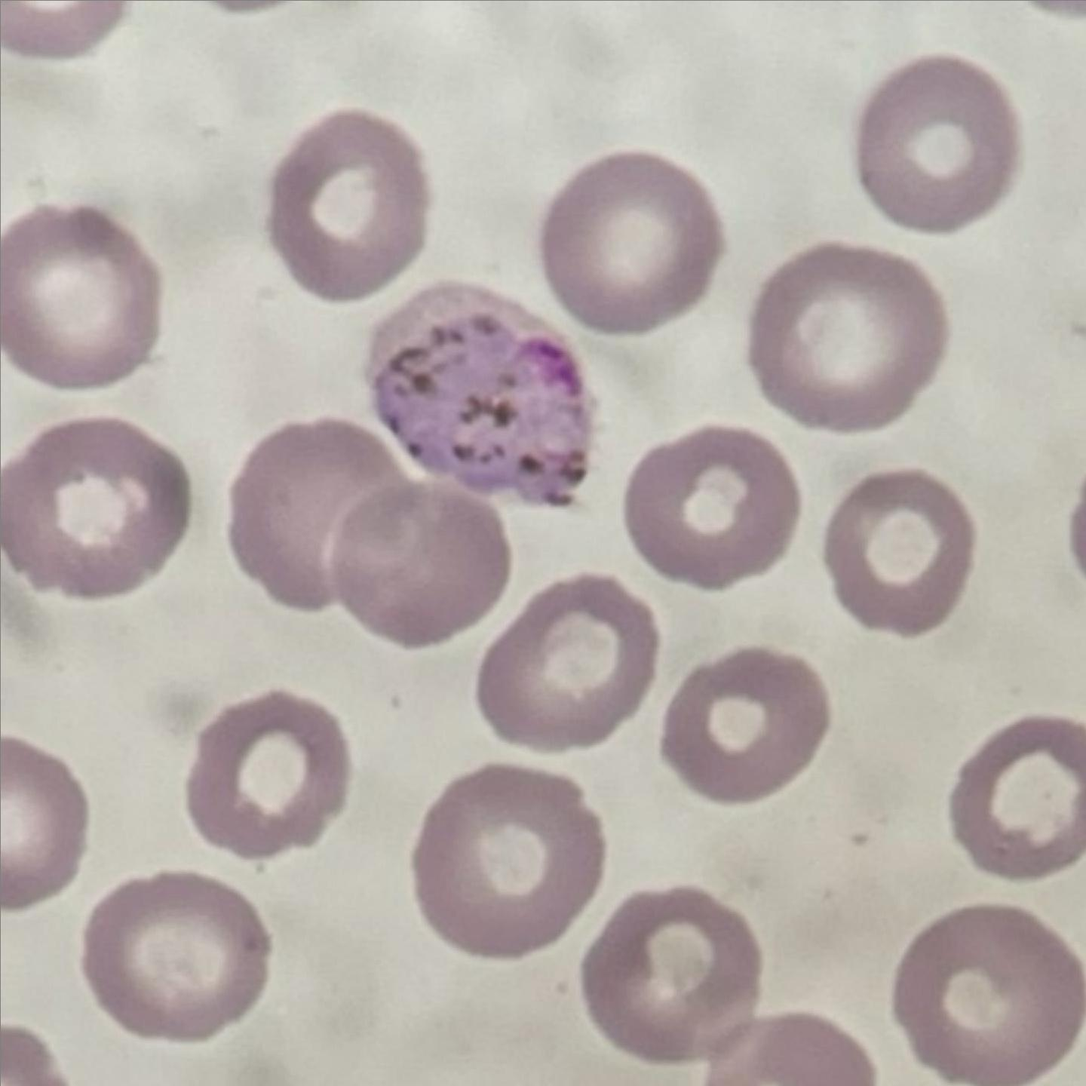Infected: (362, 282, 588, 514)
Uninfected: (749, 242, 952, 429), (230, 421, 427, 613), (890, 898, 1084, 1086), (417, 763, 600, 962), (543, 147, 734, 333), (0, 423, 194, 601), (85, 868, 272, 1047), (581, 886, 758, 1074), (473, 574, 654, 752), (855, 56, 1031, 236), (0, 204, 161, 395), (184, 690, 357, 866), (269, 109, 421, 306), (327, 489, 511, 650), (628, 423, 796, 588), (664, 644, 828, 809), (827, 473, 974, 631), (952, 710, 1086, 881), (0, 727, 101, 918)
